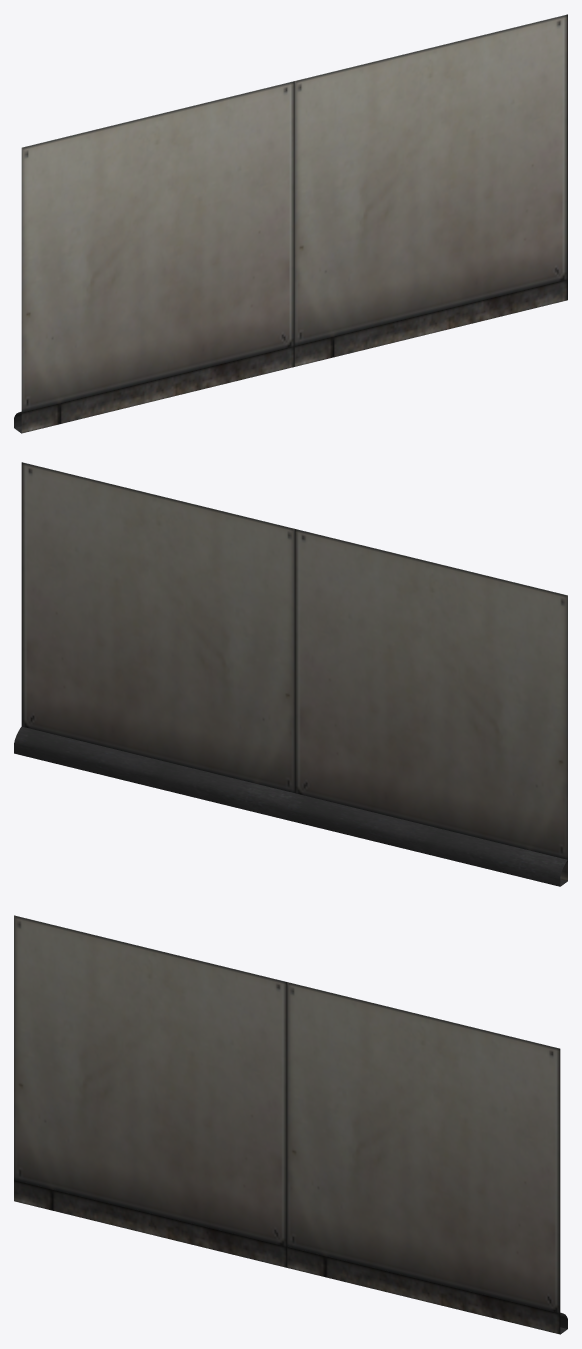
The model's file is lab_flat_extender.dae.
The picture shows the model from 3 angles, top to bottom: view 1: azimuth 30°, elevation 25°; view 2: azimuth 150°, elevation 25°; view 3: azimuth 330°, elevation 25°; orthographic projection.
Visible parts, largest first — view 1: lab_flat_extender; view 2: lab_flat_extender; view 3: lab_flat_extender.
Part boxes in pixels (x1=…): lab_flat_extender: x1=14, y1=14, x2=567, y2=433; lab_flat_extender: x1=14, y1=462, x2=567, y2=886; lab_flat_extender: x1=14, y1=915, x2=567, y2=1334.
Bounding box in the file's own units: 4 × 2 × 0.0961.
